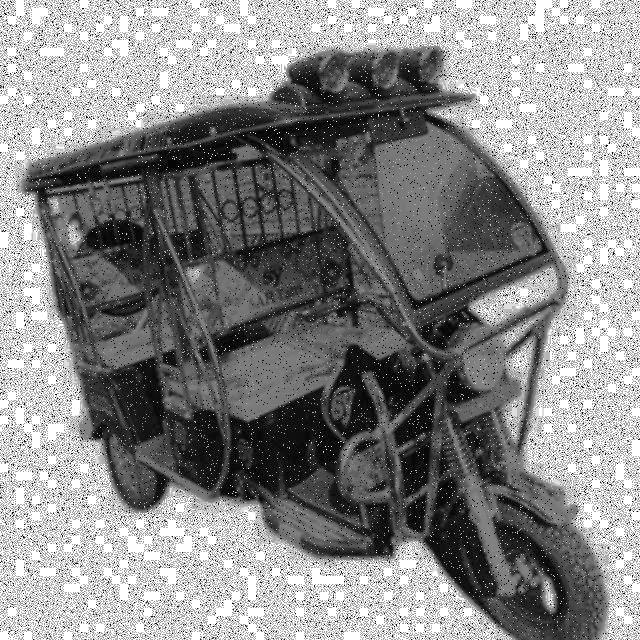Toto: (27, 86, 601, 640)
